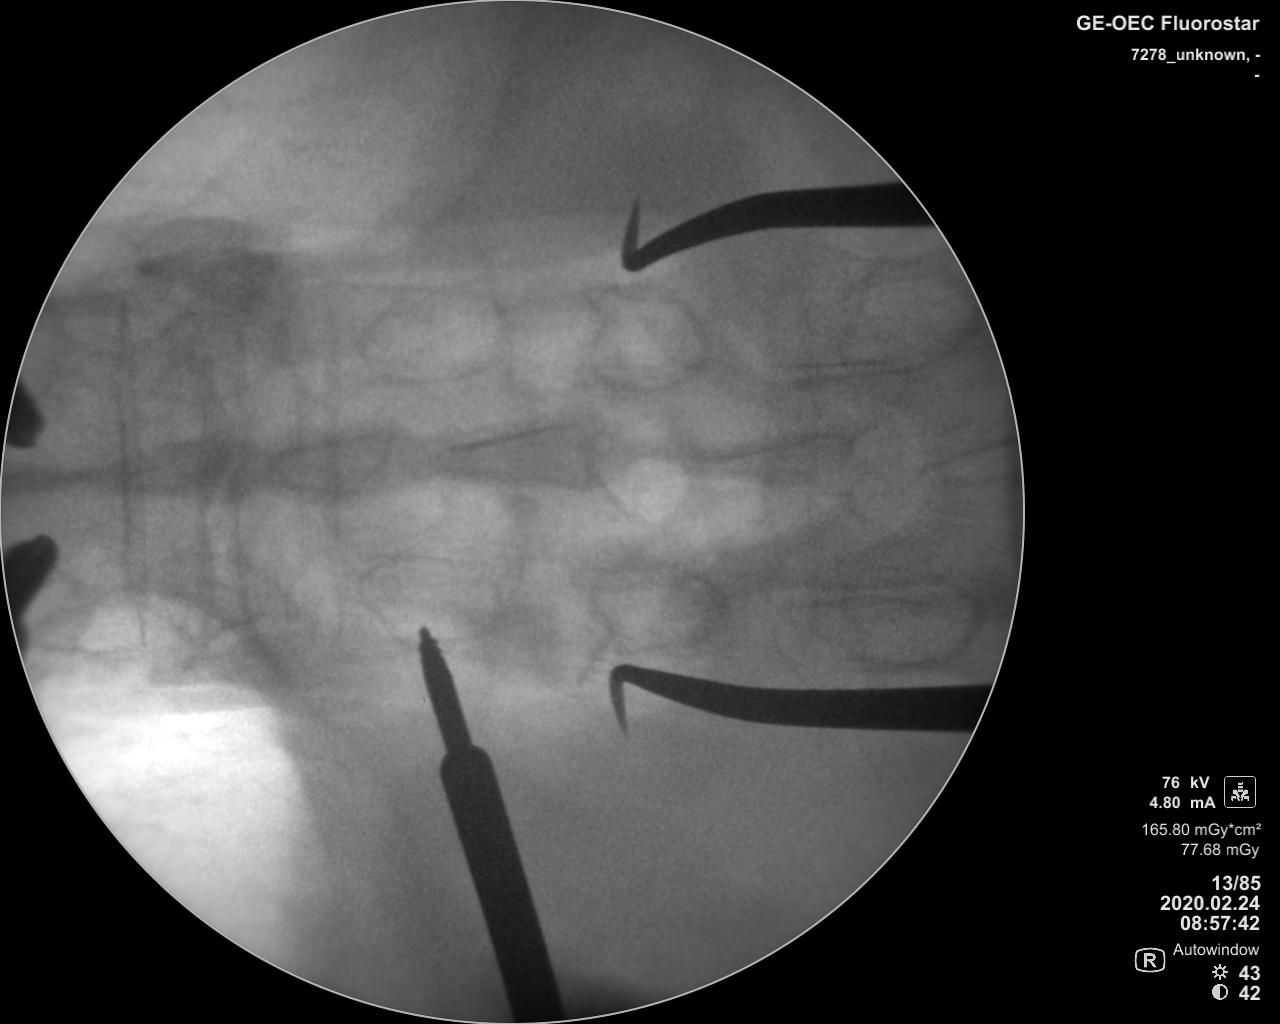eyes: (365, 278, 514, 385), (833, 562, 976, 664), (352, 550, 511, 639), (582, 283, 714, 391), (832, 269, 965, 365), (584, 559, 725, 647)
line: (111, 287, 158, 652), (315, 269, 356, 655), (187, 289, 222, 661)
nose: (67, 432, 253, 504), (434, 418, 613, 489), (677, 424, 855, 487), (255, 427, 408, 498)
